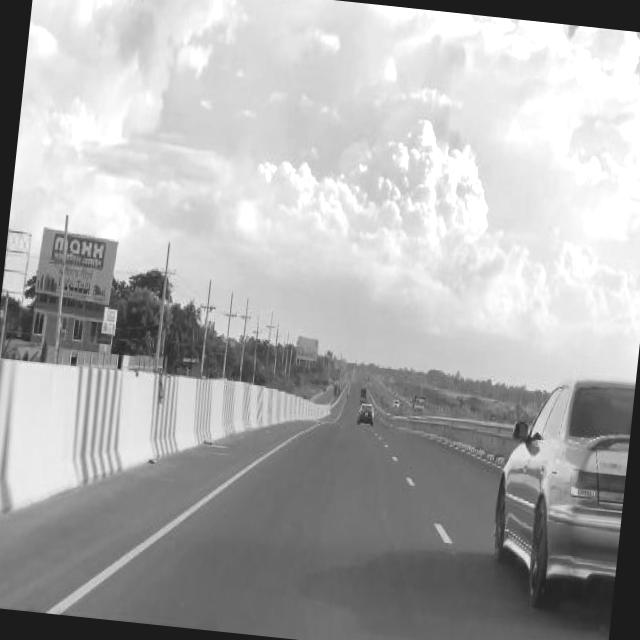car: (484, 367, 634, 615), (354, 398, 374, 424), (391, 397, 398, 405)
